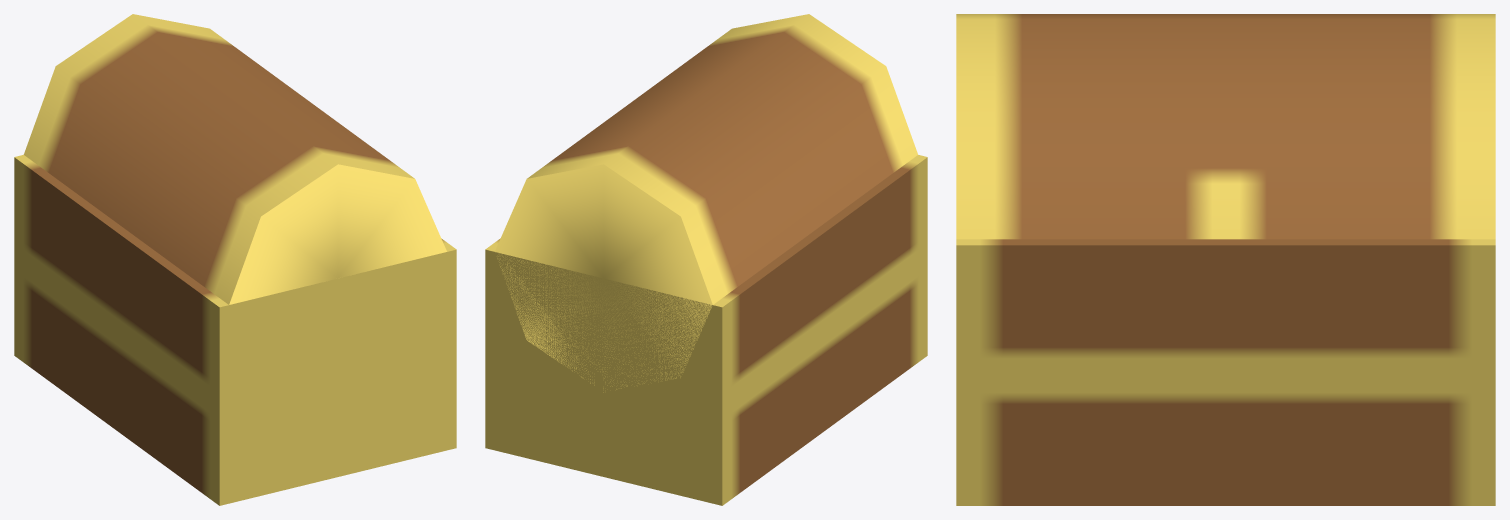
File: prop_chest_4f56.glb
The picture shows the model from 3 angles, left to right: view 1: azimuth 30°, elevation 25°; view 2: azimuth 150°, elevation 25°; view 3: azimuth 270°, elevation 25°; orthographic projection. The views are drawn at different scales.
Parts seen in each view (by area): view 1: prop_chest_4f56; view 2: prop_chest_4f56; view 3: prop_chest_4f56.
Part boxes in pixels (x1,y1,x2,y2): prop_chest_4f56: (14, 14, 456, 505); prop_chest_4f56: (485, 14, 927, 505); prop_chest_4f56: (956, 14, 1495, 505).
Size of the model in its own units: 0.442 by 0.5569 by 0.663.
Materials: 1 (1 with a texture image).
